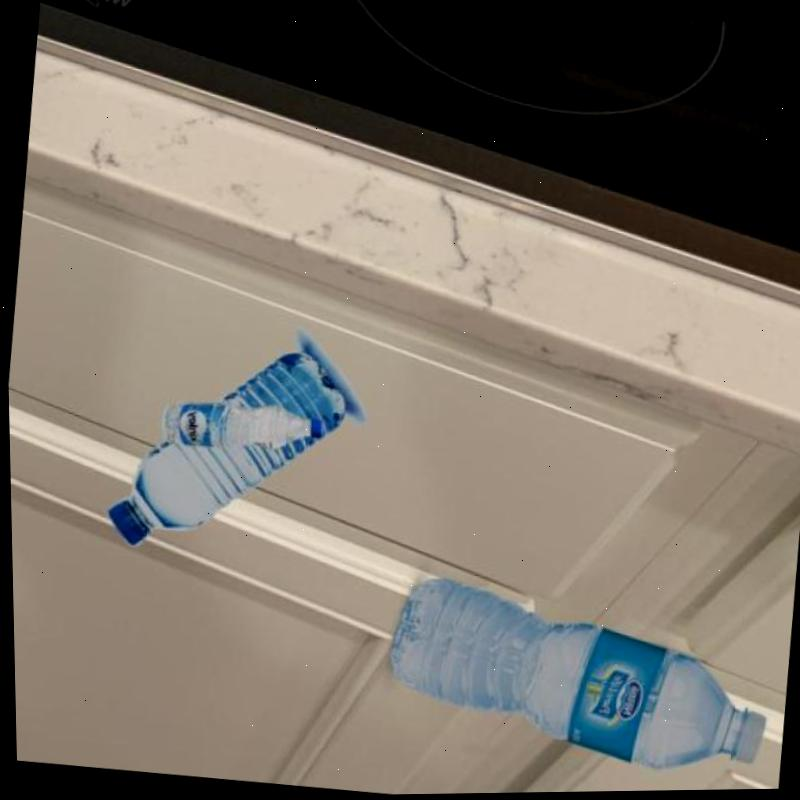botella: (378, 574, 777, 786), (99, 335, 352, 568), (157, 397, 324, 464)
